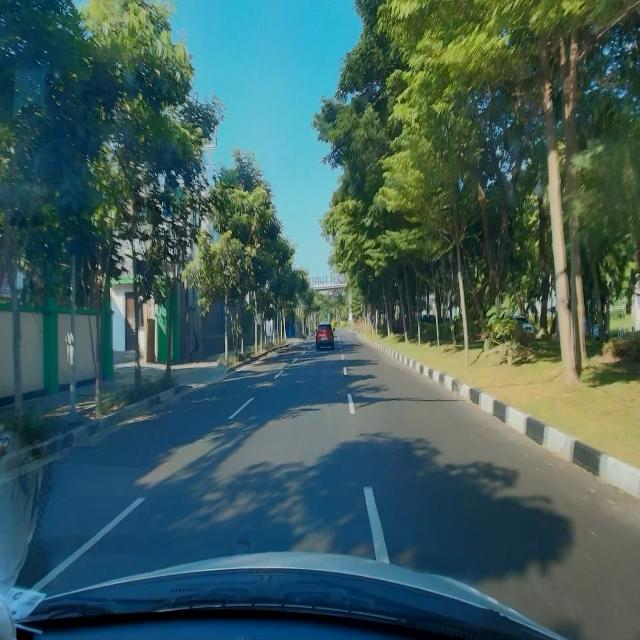car: (315, 322, 334, 352)
